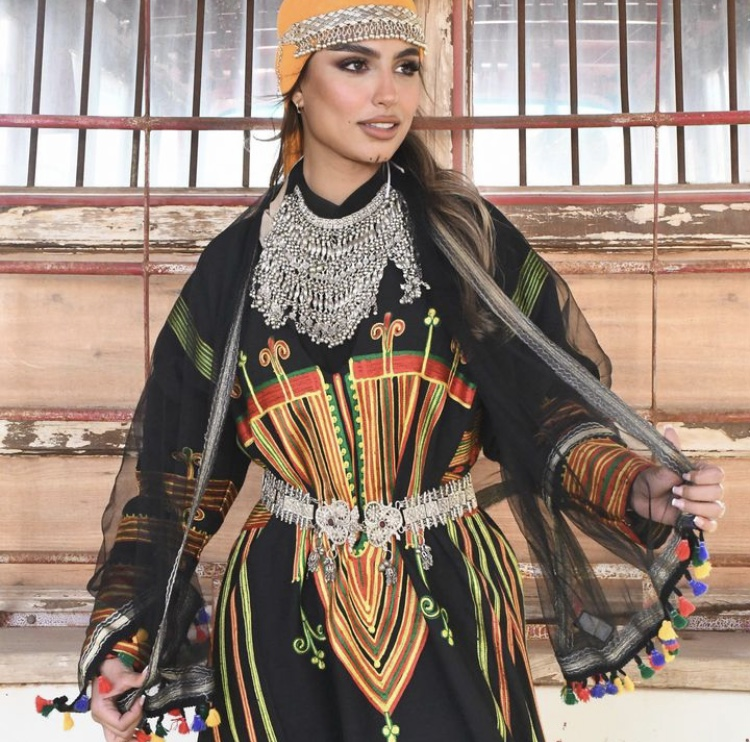Saudi_Founding_Day: (38, 1, 724, 742)
